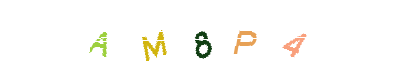4: (208, 0, 288, 80)
8: (162, 0, 242, 80)
A: (73, 0, 153, 80)
M: (114, 0, 194, 80)
P: (167, 0, 247, 80)
